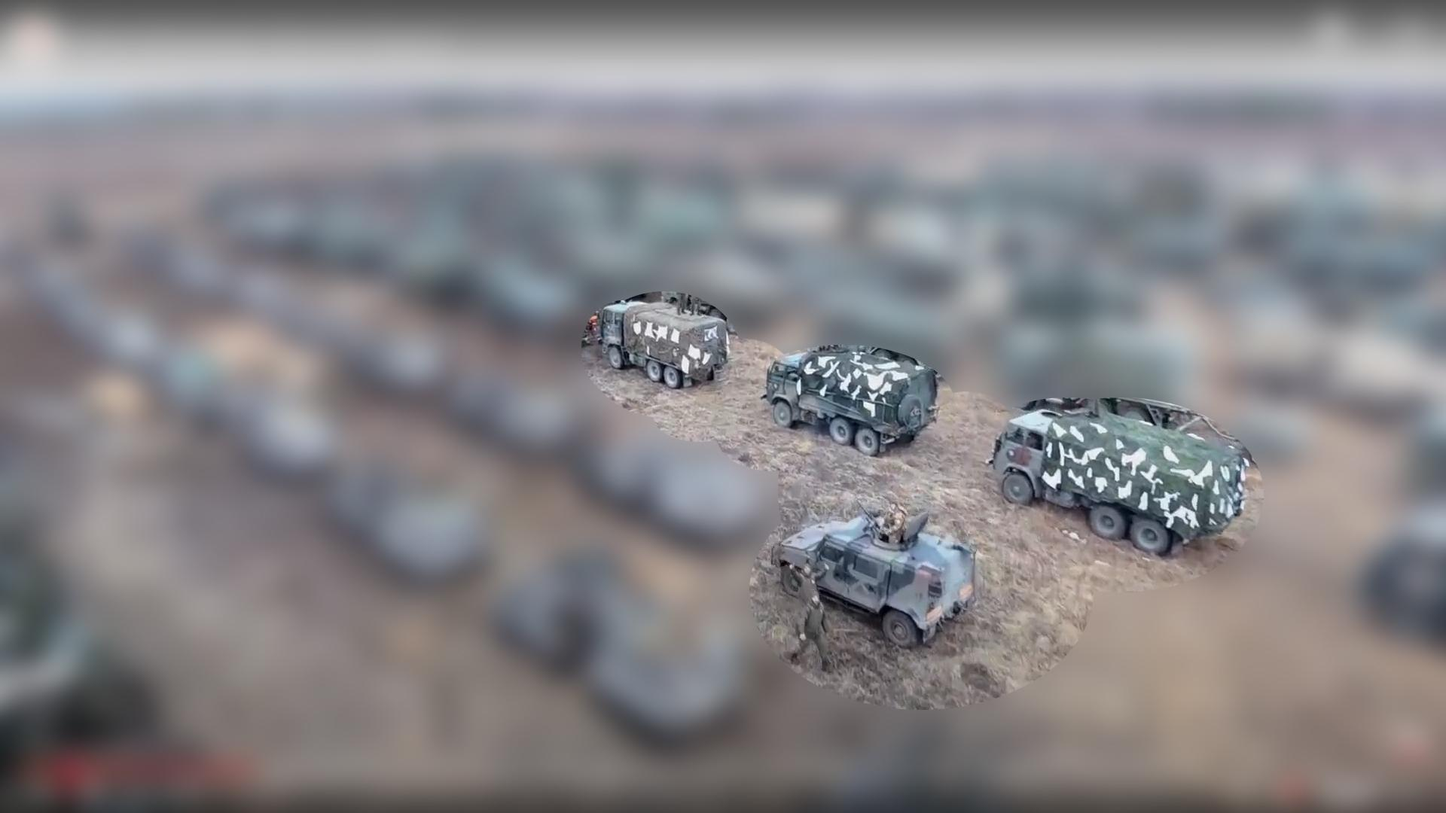armored_car: (761, 509, 981, 655)
truck: (987, 405, 1251, 559), (763, 344, 942, 458), (583, 291, 735, 390)
